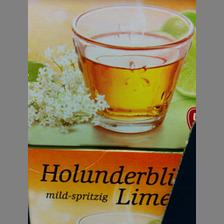Tee: (27, 0, 195, 224)
